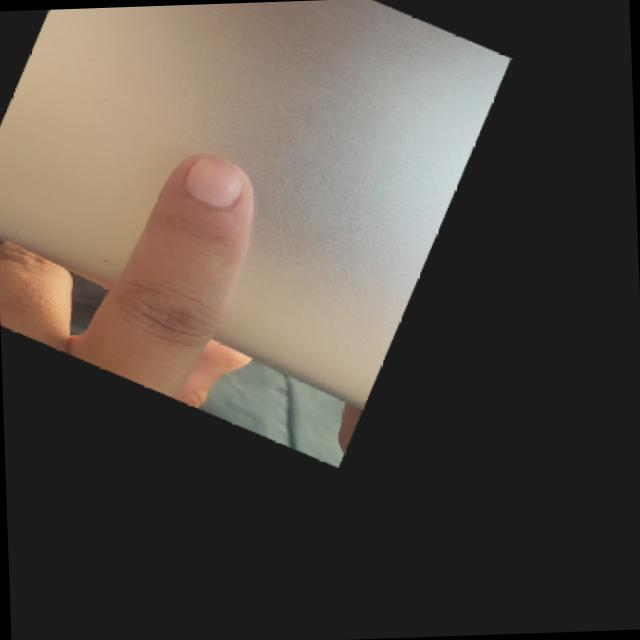Nail: (183, 156, 245, 209)
